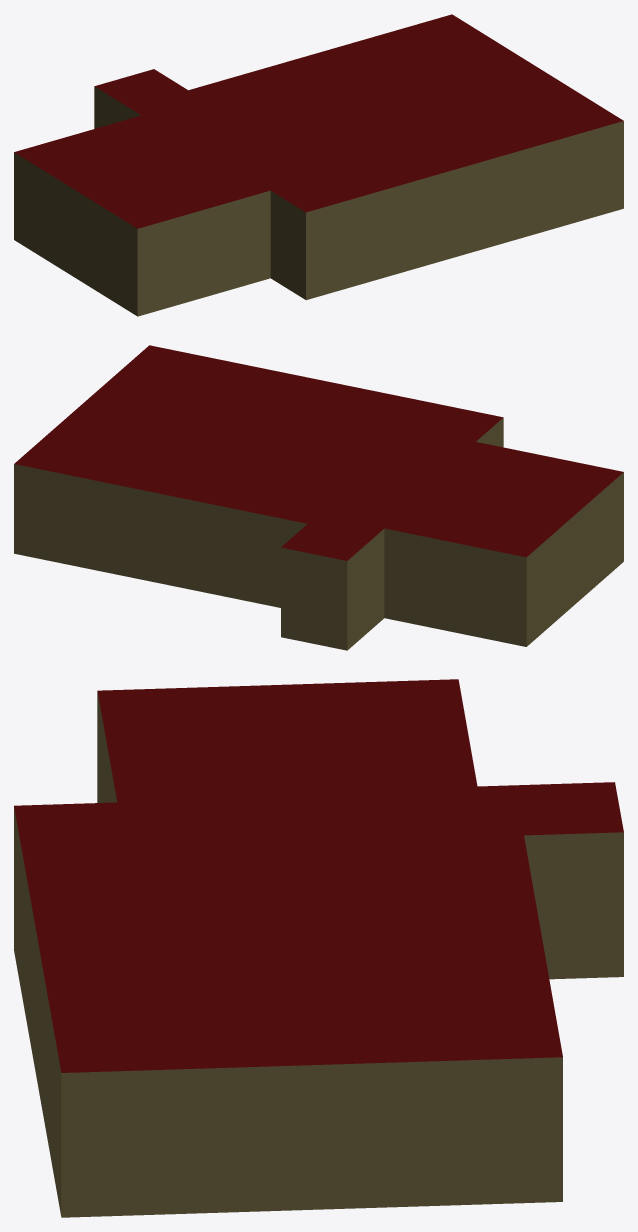
The model's file is Building_Salomon_Center_for_Teaching_Export.FBX.
3 views of the same model, one above another, from view 1: azimuth 30°, elevation 25°; view 2: azimuth 150°, elevation 25°; view 3: azimuth 270°, elevation 25° (orthographic). The views are drawn at different scales.
Visible parts, largest first — view 1: Building_Salomon_Center_for_Teaching_Export; view 2: Building_Salomon_Center_for_Teaching_Export; view 3: Building_Salomon_Center_for_Teaching_Export.
Boxes of the visible parts, left/top/right/bottom form: Building_Salomon_Center_for_Teaching_Export: left=14, top=14, right=623, bottom=316; Building_Salomon_Center_for_Teaching_Export: left=14, top=345, right=623, bottom=650; Building_Salomon_Center_for_Teaching_Export: left=14, top=679, right=623, bottom=1217.
Bounding box in the file's own units: 17.23 × 2.95 × 11.28.
